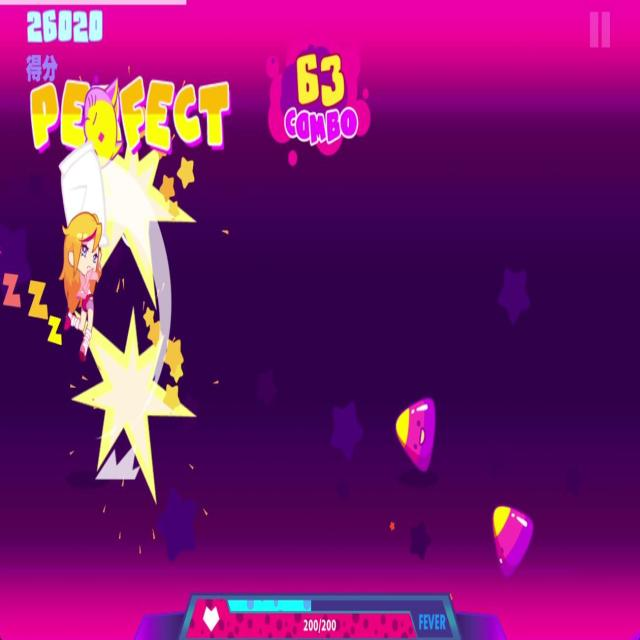jian: (488, 495, 536, 583), (392, 390, 439, 478)
